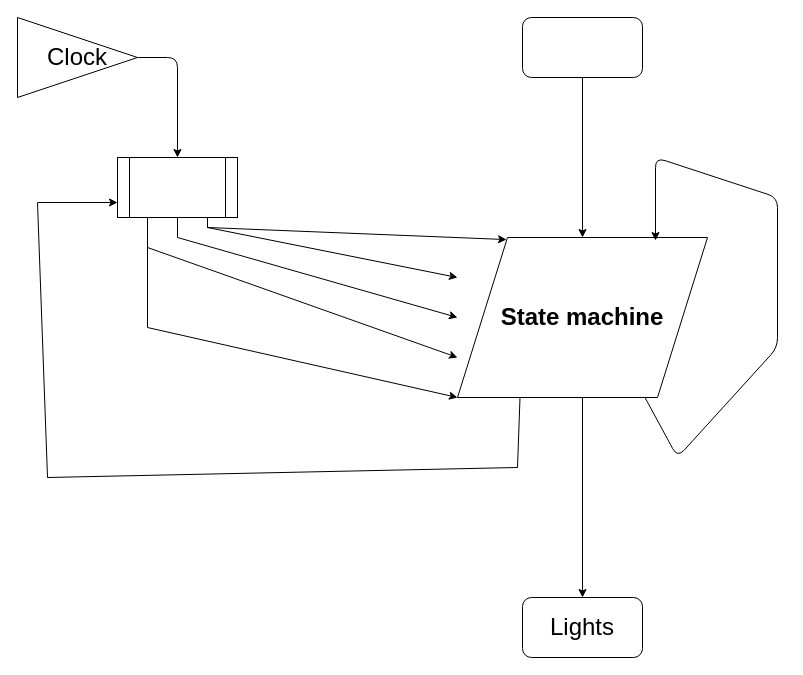
Some shapes in this 803 by 675 pixel diagram are drawn without their labels. The shapes that lost their labels are listed below. From the top down, each one's box as (x1, y1, x2, y2) in pixels, then its label:
(522, 16, 642, 78): Sensors
(116, 156, 238, 218): Counters
